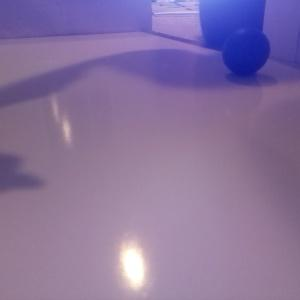dead_ball: (222, 28, 270, 75)
